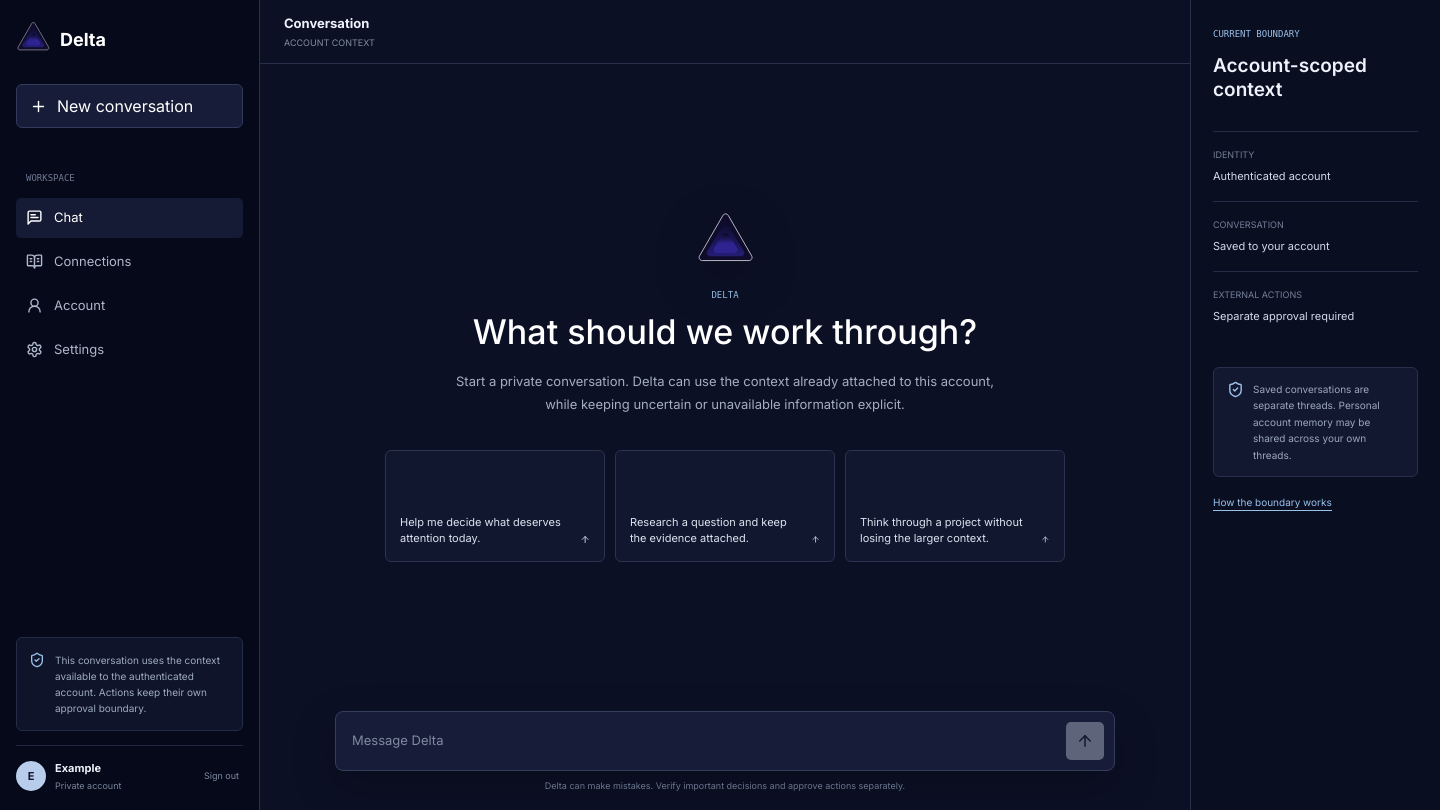
it: Delta chat workspace › does not retry or expose a private server failure
Type "Try once" into the text box labelled "Message Delta". click: (704, 740)
box: [352,722,1056,760]
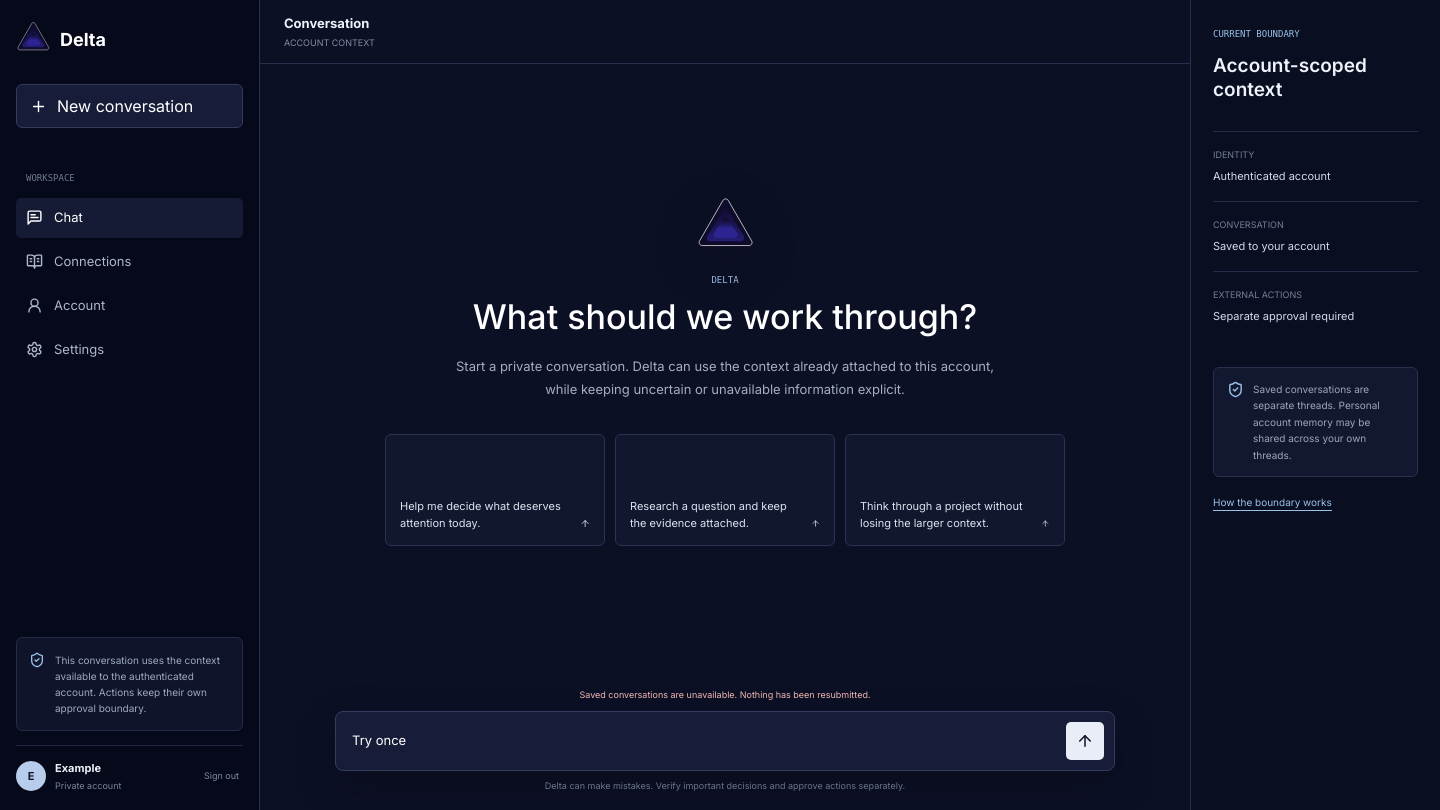
Click the button named "Send message". click: (1085, 740)
box: [1066,722,1104,760]
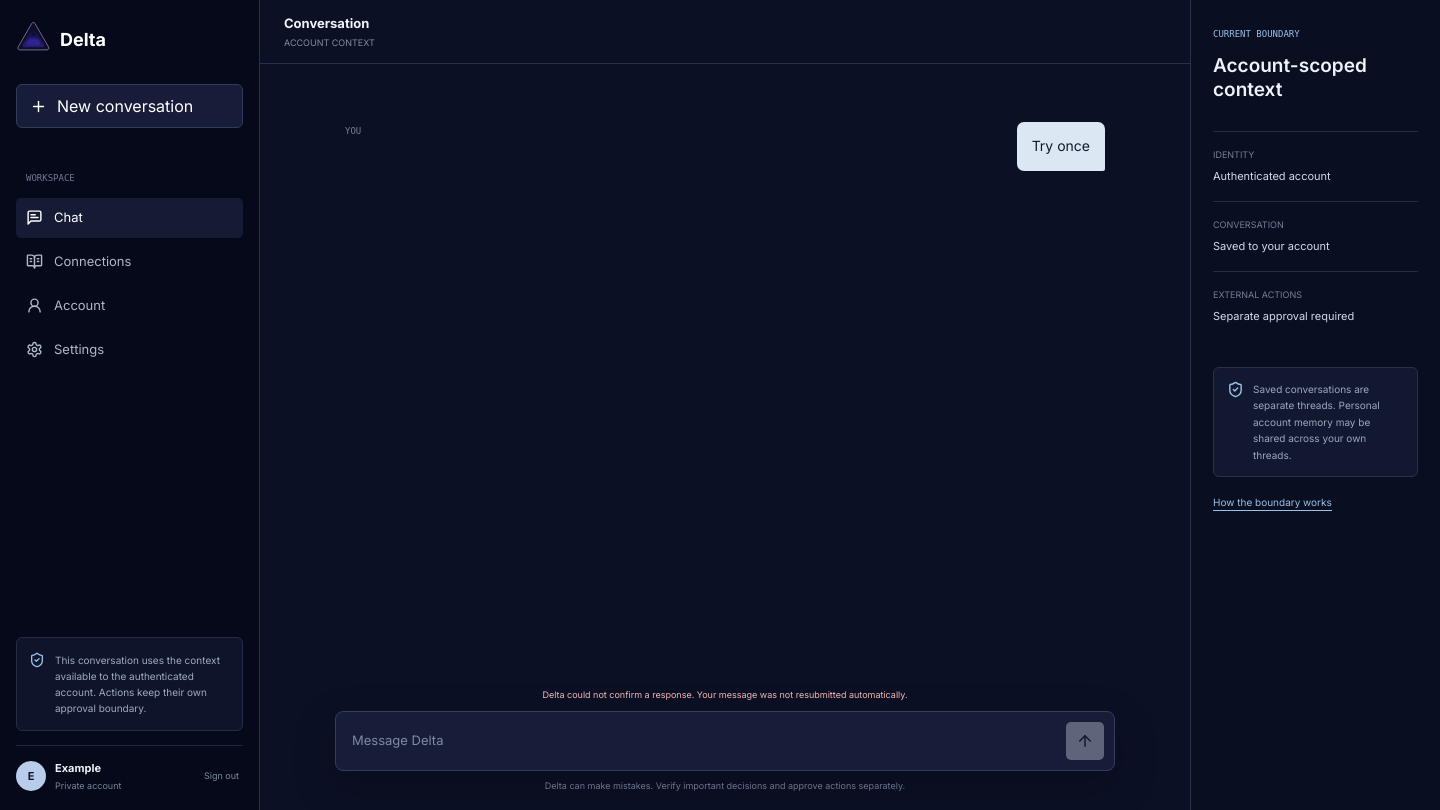
Expected: the message shows "not resubmitted automatically", [542,689,908,700]
